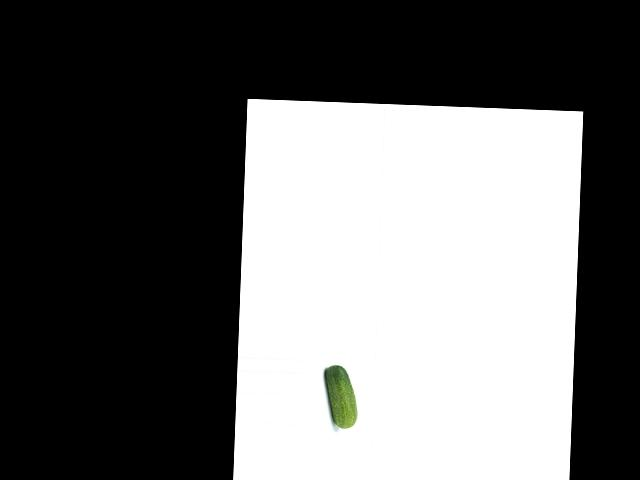cucumber: (323, 364, 358, 428)
